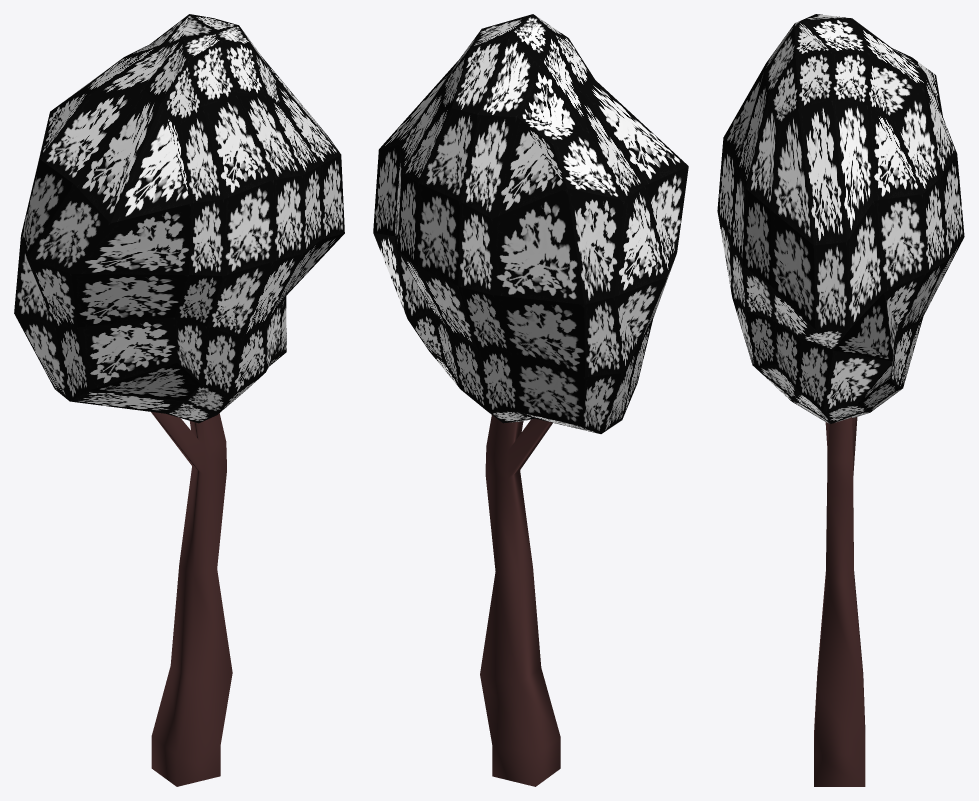
Rendered from tree.glb.
The picture shows the model from 3 angles, left to right: view 1: azimuth 30°, elevation 25°; view 2: azimuth 150°, elevation 25°; view 3: azimuth 270°, elevation 25°; orthographic projection. The views are drawn at different scales.
Parts seen in each view (by area): view 1: foliage, trunk; view 2: foliage, trunk; view 3: foliage, trunk.
Part boxes in pixels (box(x1,y1,x2,y2)): foliage: box(14, 14, 344, 423); trunk: box(151, 412, 232, 786); foliage: box(373, 14, 688, 433); trunk: box(480, 415, 560, 786); foliage: box(717, 14, 964, 423); trunk: box(814, 417, 865, 786).
Size of the model in its own units: 8.2 by 19.51 by 5.73.
Materials: 2 (1 with a texture image).
